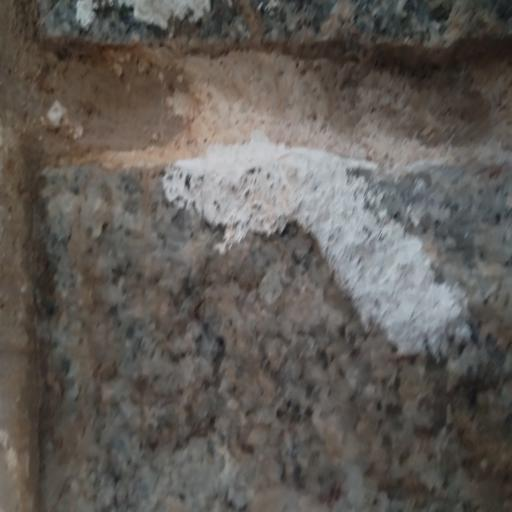stain: (161, 118, 484, 346)
